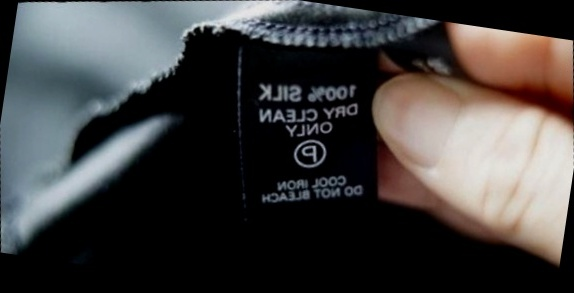dry_clean_any_solvent_except_trichloroethylene: (288, 133, 330, 173)
